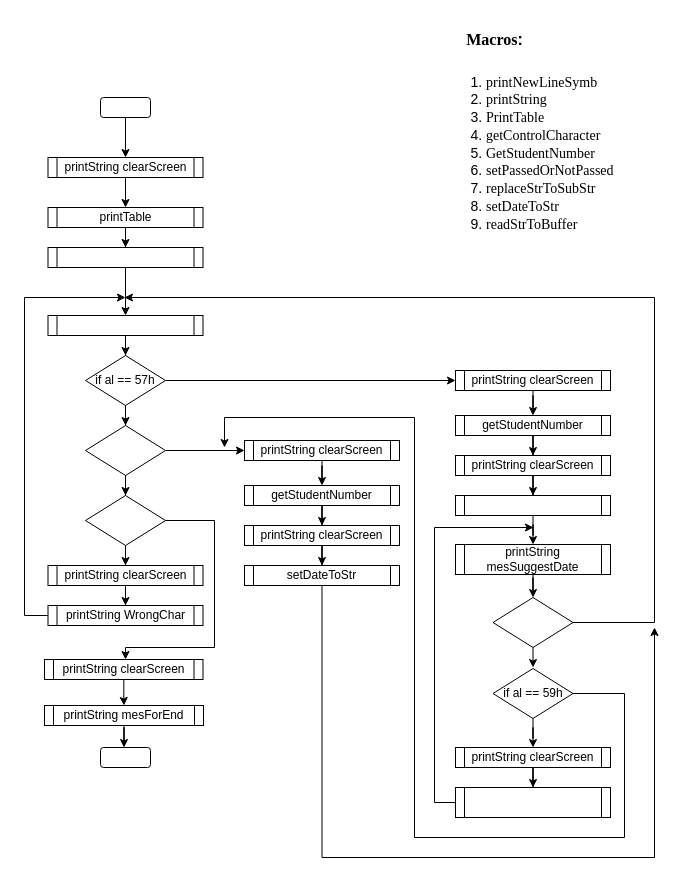
This 680x883 diagram has some shape labels left out. Here are the shapes that lost their labels. From the top down, the centre of each, then its label:
the point at 125,107: begin
the point at 125,257: printNewLineSymb
the point at 125,325: getControlCharacter
the point at 125,450: if al == 44h
the point at 125,520: if al == 45h
the point at 532,505: setPassedOrNotPassed
the point at 532,622: if al == 4eh
the point at 125,757: end
the point at 532,802: printString wrongSelectLtrs
